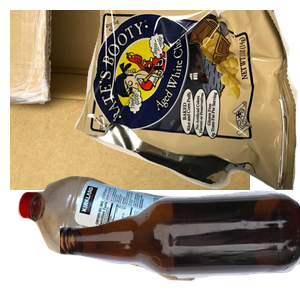cardboard: (10, 10, 250, 190)
glass: (60, 188, 300, 300)
plastic: (15, 173, 222, 300)
trash: (75, 10, 300, 190)
